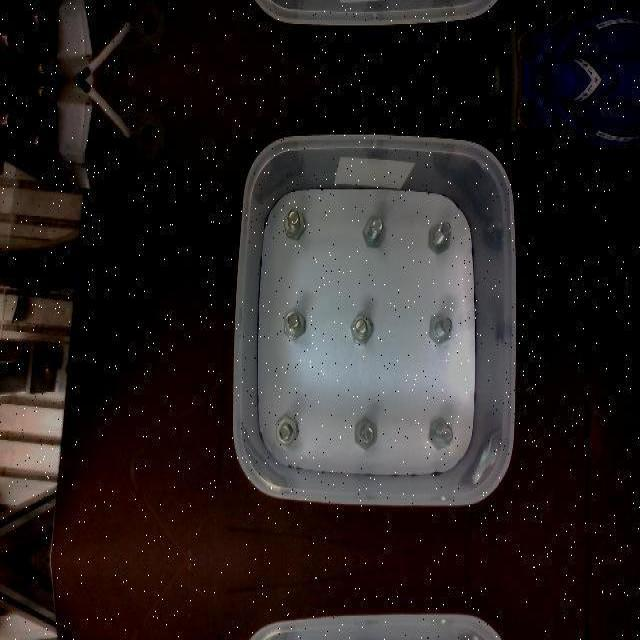screw: (428, 418, 453, 450), (349, 314, 374, 344), (355, 415, 377, 449), (363, 215, 386, 247), (429, 314, 452, 346), (284, 307, 305, 341), (429, 220, 451, 252), (275, 414, 297, 446), (283, 209, 305, 239)
